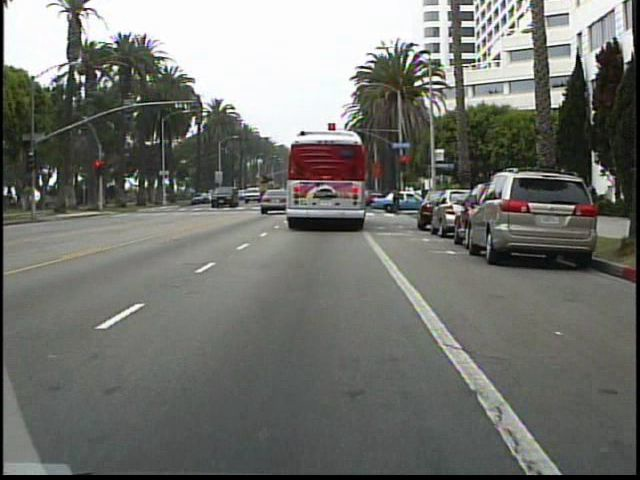person: (386, 184, 405, 216)
